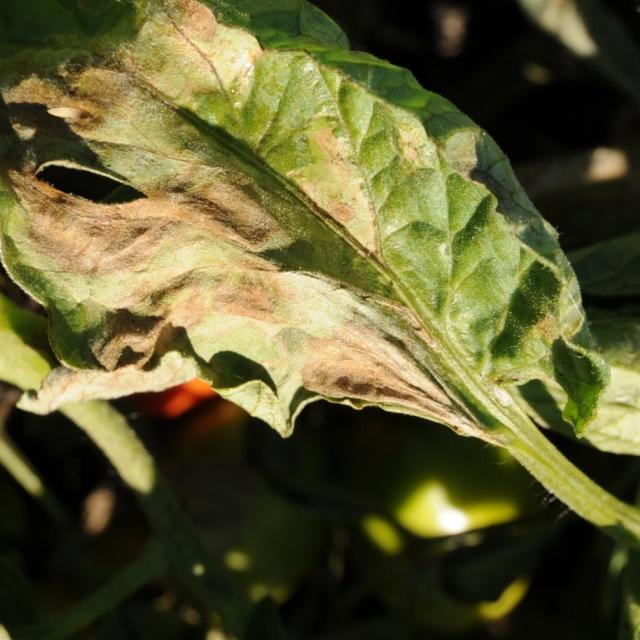Tomato leaf late blight: (0, 0, 566, 450)
